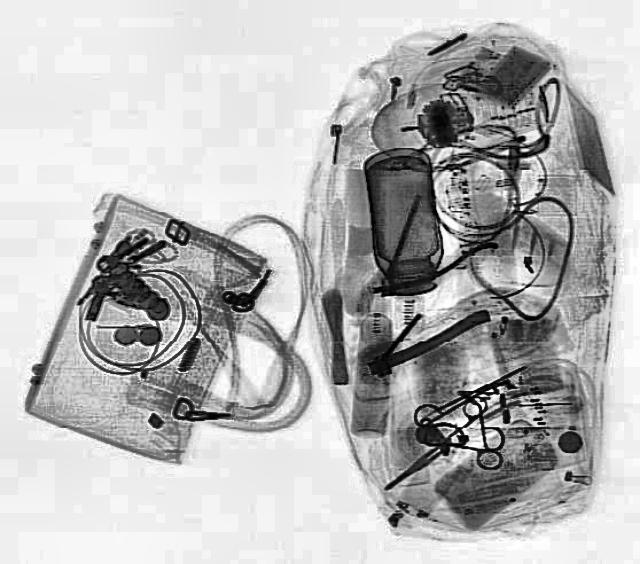Scissors: (362, 390, 520, 512)
